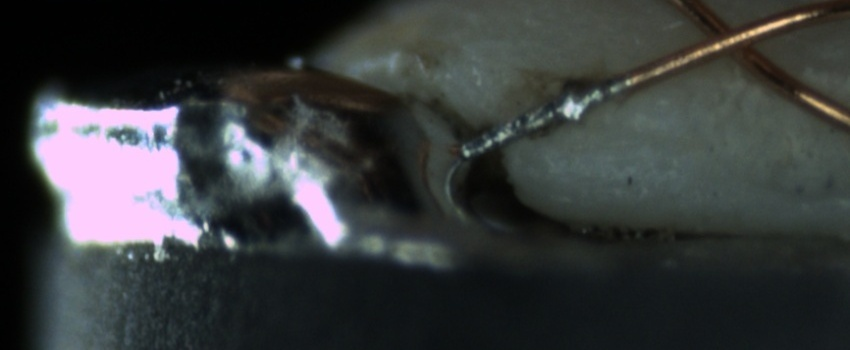CL: (681, 8, 786, 74)
TS: (457, 76, 626, 160)
TTCW: (458, 47, 671, 161)
